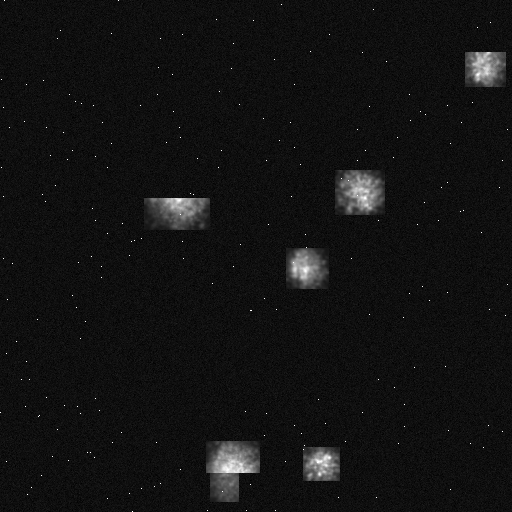lam1: (335, 170, 384, 214), (286, 248, 328, 288), (465, 52, 505, 86), (303, 447, 339, 480)
lam3: (144, 198, 209, 229), (206, 441, 259, 472), (210, 455, 238, 501)
